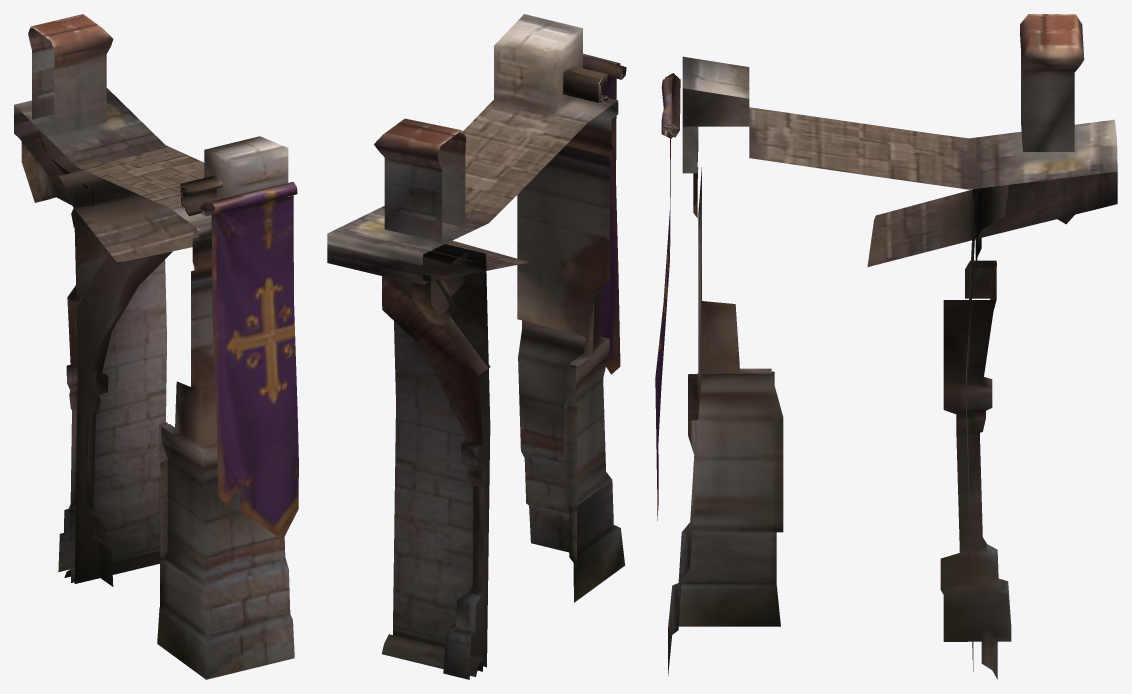
Rendered from WallRunFront_16.fbx.
3 renders of one model, left to right at view 1: azimuth 30°, elevation 25°; view 2: azimuth 150°, elevation 25°; view 3: azimuth 270°, elevation 25°, orthographic. The views are drawn at different scales.
Parts seen in each view (by area): view 1: Imported wall section.010; view 2: Imported wall section.010; view 3: Imported wall section.010.
Boxes of the visible parts, box(x1,y1,x2,y2) form: Imported wall section.010: box(14, 14, 298, 679); Imported wall section.010: box(327, 14, 626, 679); Imported wall section.010: box(655, 14, 1117, 679).
Bounding box in the file's own units: 100 × 565 × 385.
1 material, 1 textured.
